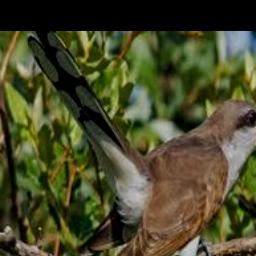Cuckoo: (28, 31, 256, 256)
